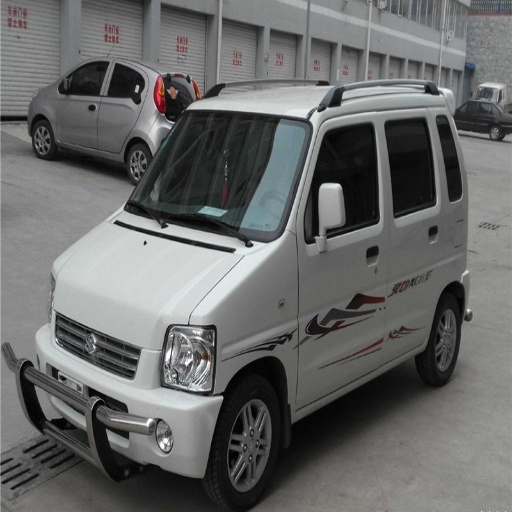front_bumper: (41, 316, 224, 477)
front_glass: (123, 112, 309, 248)
front_left_door: (297, 116, 388, 407), (57, 63, 110, 146)
